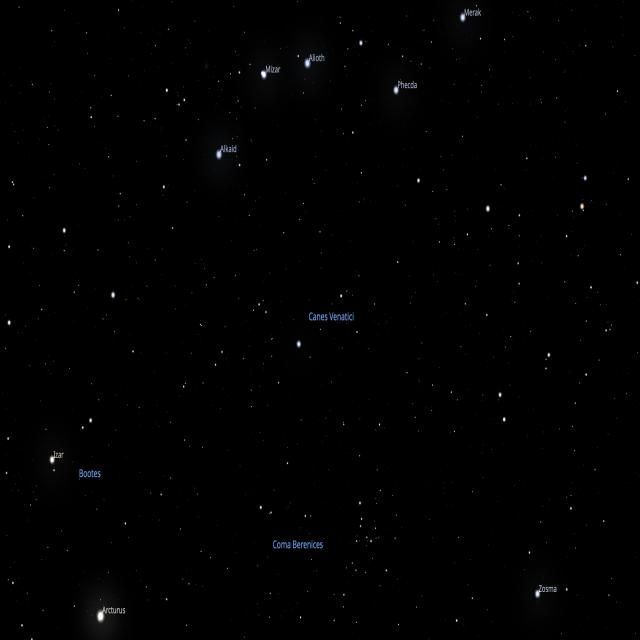Canes Venatici: (292, 291, 355, 351)
